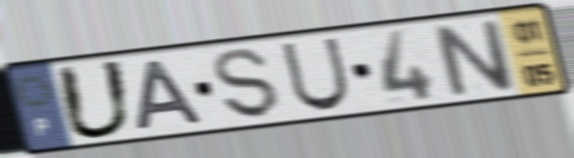4: (377, 27, 442, 105)
A: (134, 56, 209, 133)
N: (427, 17, 521, 100)
S: (211, 47, 284, 122)
U: (52, 58, 137, 143), (278, 35, 354, 114)
